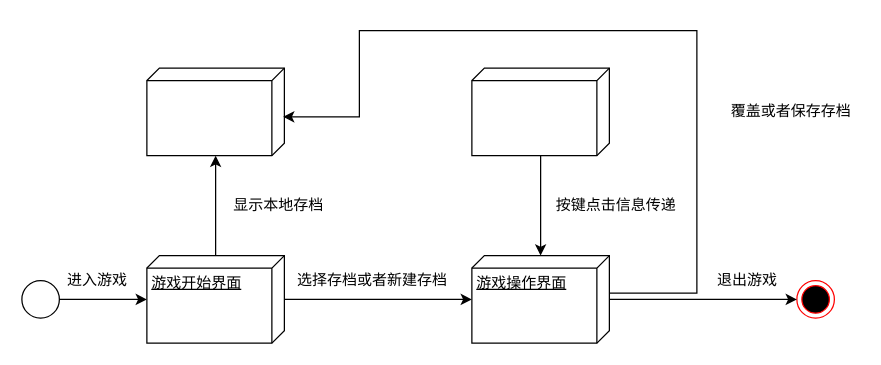
Image size: 881x365. Some labels were removed from this diagram. The centre of each missing label's shape, as x and y in pixels:
游戏本地数据: point 215,111
键鼠操作设备: point 540,111
